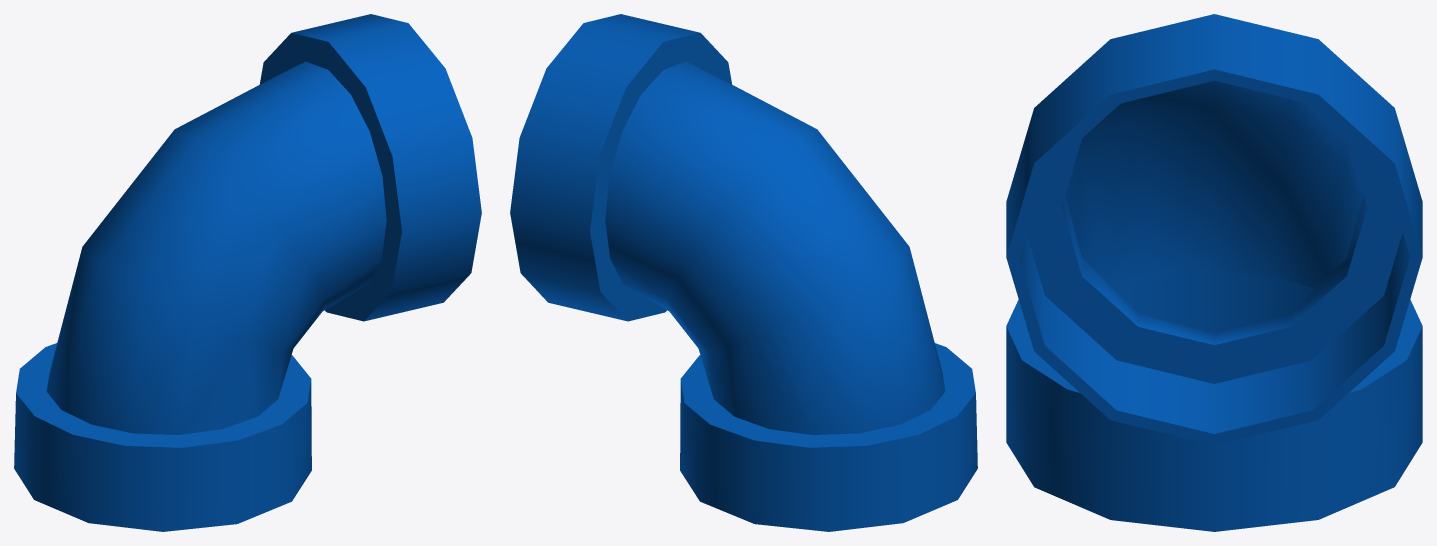
3 renders of one model, left to right at view 1: azimuth 30°, elevation 25°; view 2: azimuth 150°, elevation 25°; view 3: azimuth 270°, elevation 25°, orthographic. The views are drawn at different scales.
Visible parts, largest first — view 1: 1347, 1347_4373; view 2: 1347, 1347_4373; view 3: 1347, 1347_4373.
Boxes of the visible parts, left/top/right/bottom form: 1347: left=14, top=14, right=481, bottom=531; 1347_4373: left=16, top=33, right=401, bottom=447; 1347: left=510, top=14, right=977, bottom=531; 1347_4373: left=590, top=33, right=975, bottom=447; 1347: left=1006, top=14, right=1422, bottom=531; 1347_4373: left=1006, top=69, right=1422, bottom=445.
Size of the model in its own units: 0.5026 by 0.4981 by 0.3462.
